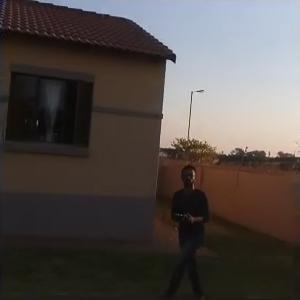follow: (154, 158, 213, 298)
